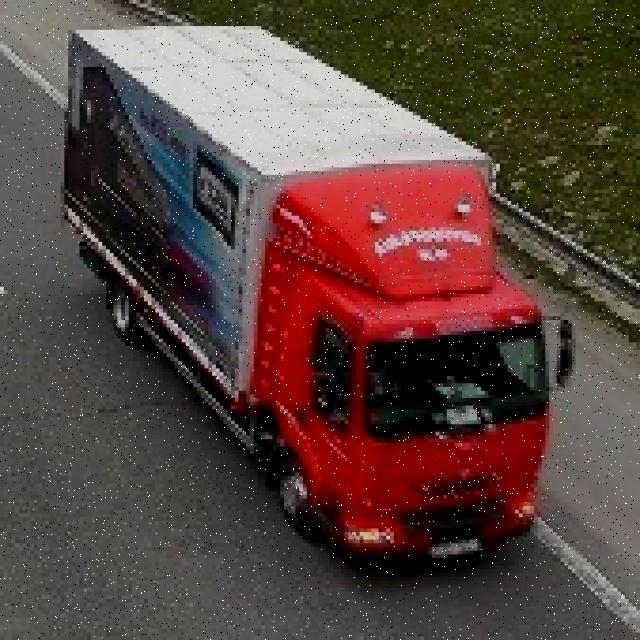truck: (61, 11, 572, 573)
